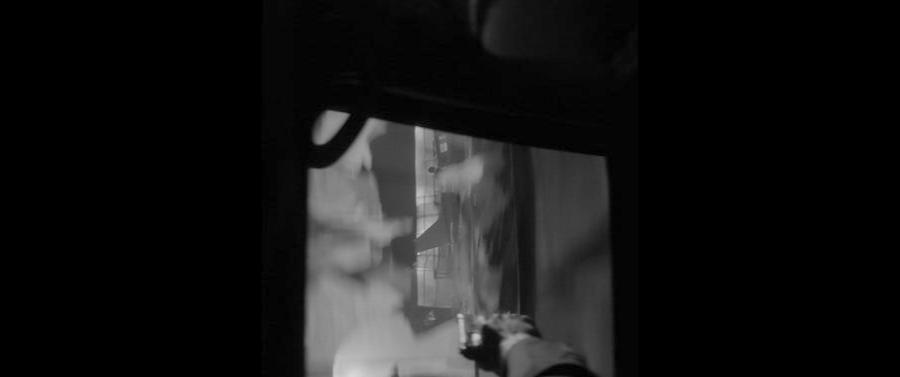gun: (455, 307, 525, 366)
